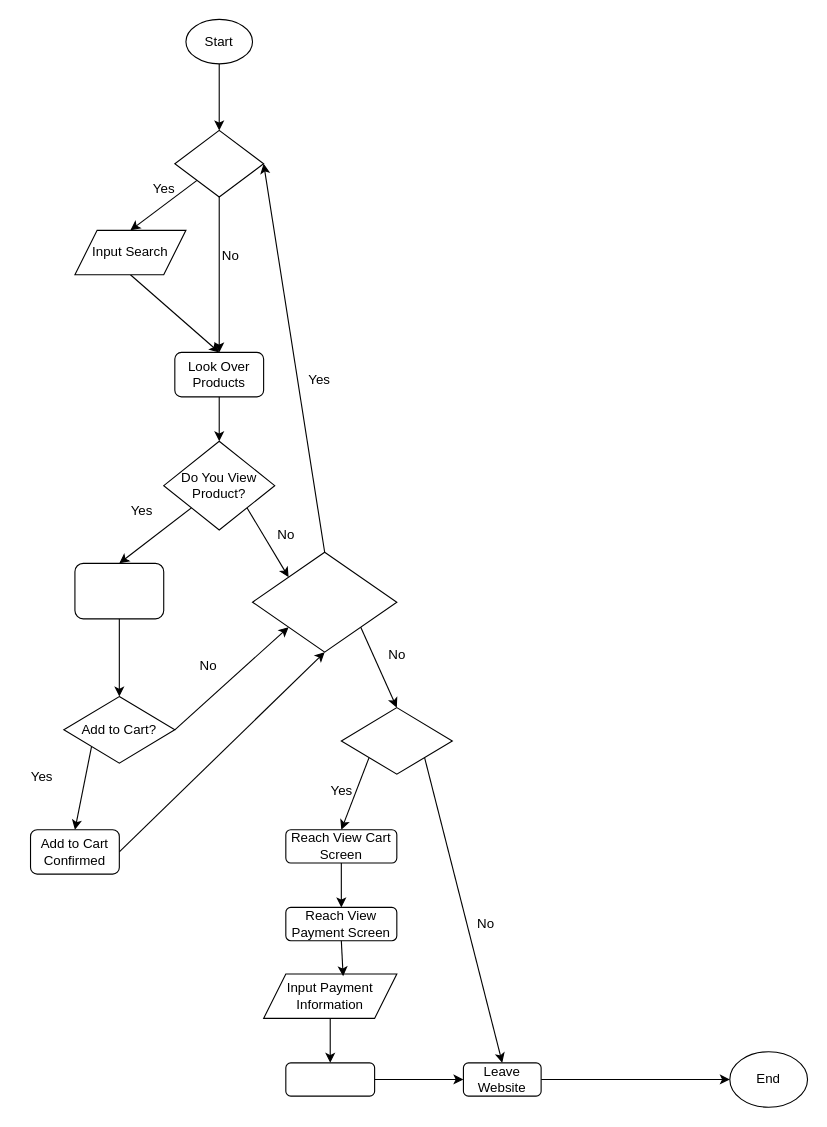
This 827x1127 diagram has some shape labels left out. Here are the shapes that lost their labels. From the top down, the box of each, then its label:
(174, 129, 264, 197): Do You Search?
(74, 562, 164, 619): Product Webpage Opens
(251, 551, 397, 652): Do You Continue Shopping?
(340, 707, 452, 774): Do You Checkout?
(285, 1062, 375, 1096): Confirmed Payment
